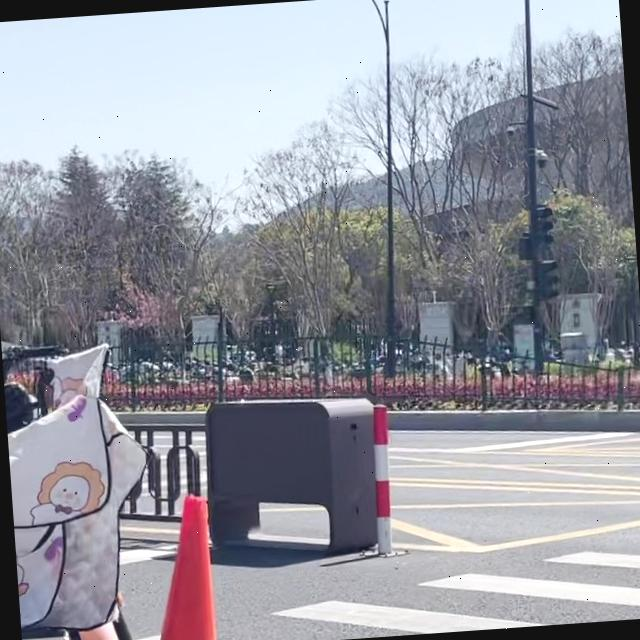curb: (389, 409, 640, 430), (117, 412, 203, 428)
